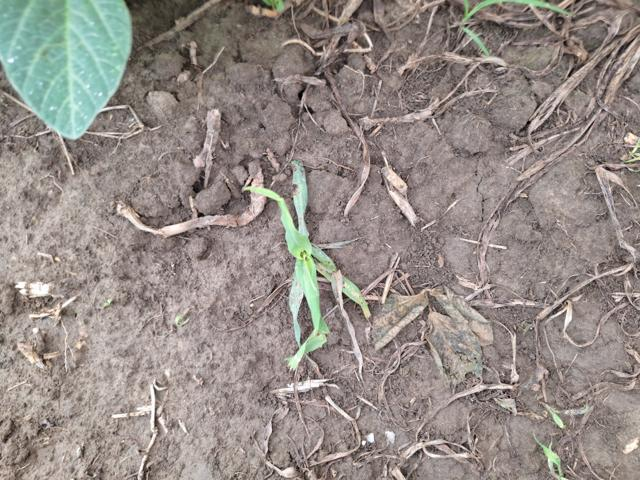bad weed: (243, 150, 378, 378), (523, 388, 585, 480)
